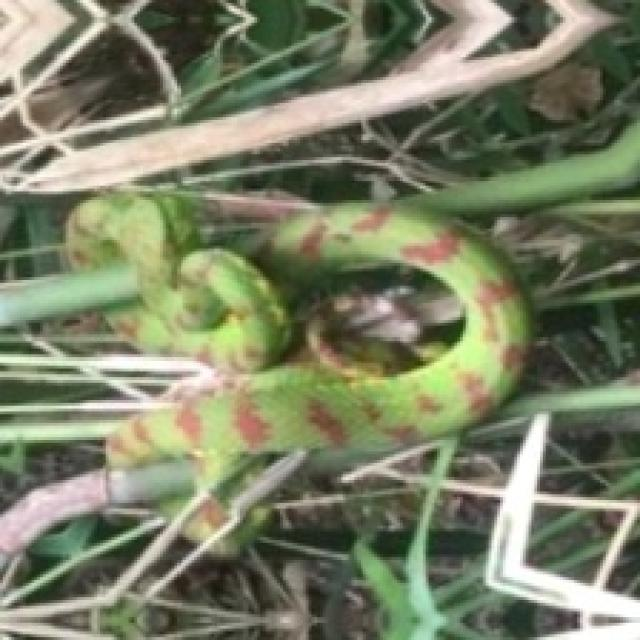philippine pitviper: (0, 191, 529, 506)
